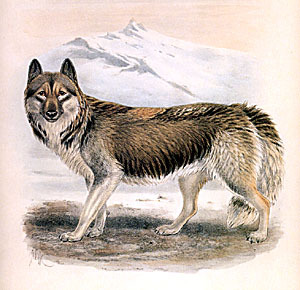dog: (24, 57, 282, 243)
